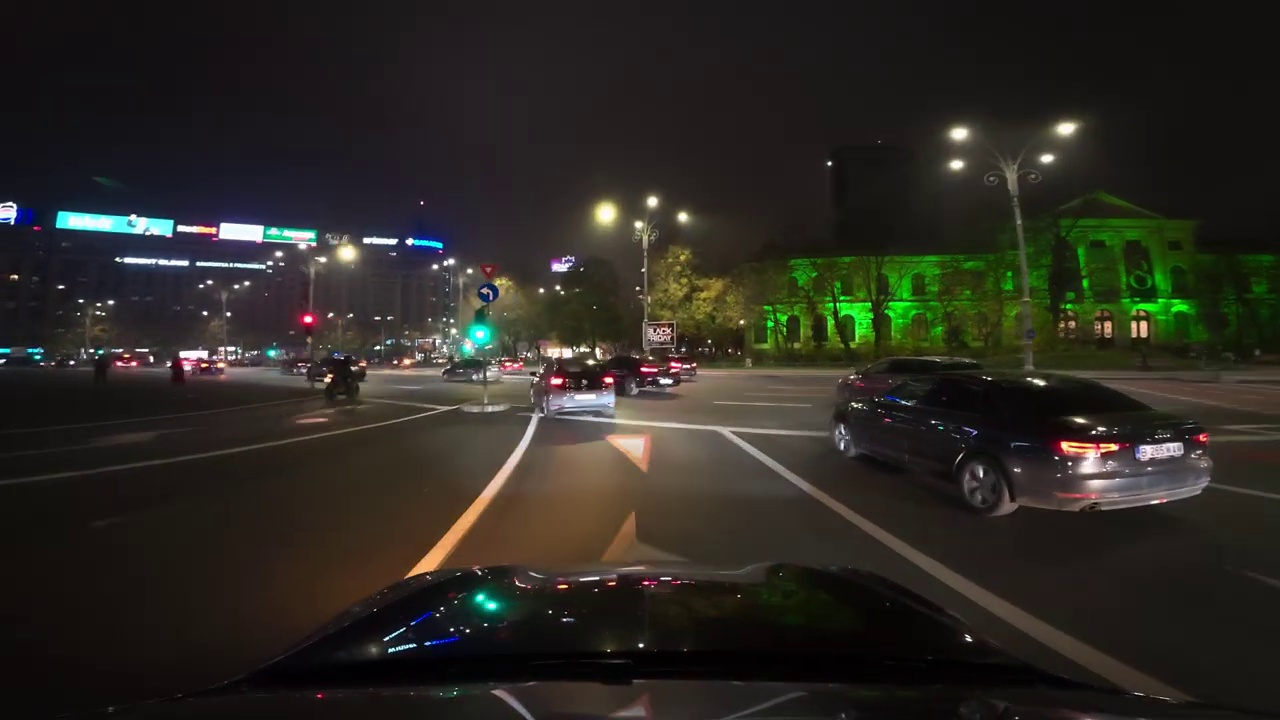acesa: (591, 199, 621, 230), (334, 242, 361, 268), (946, 122, 972, 146), (1052, 119, 1079, 141), (675, 207, 697, 230)
